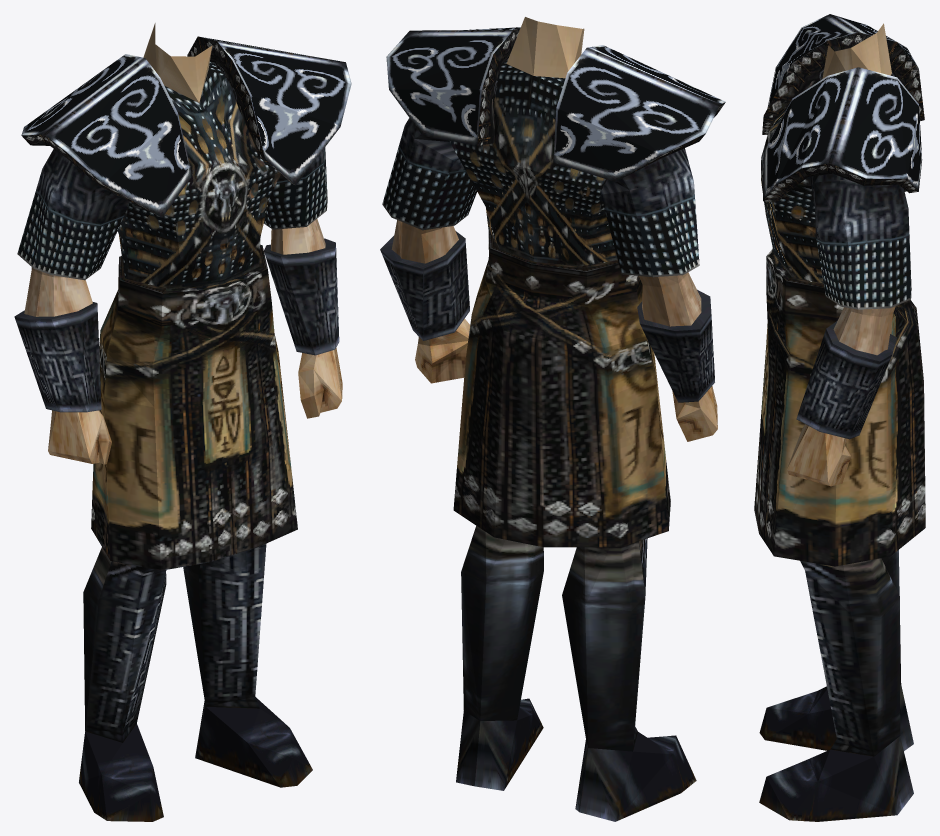
Rendered from Armor_CorAngar.glb.
3 views of the same model, side by side, from view 1: azimuth 30°, elevation 25°; view 2: azimuth 150°, elevation 25°; view 3: azimuth 270°, elevation 25° (orthographic). The views are drawn at different scales.
Visible parts, largest first — view 1: Armor_CorAngarzm_TPL_Ts; view 2: Armor_CorAngarzm_TPL_Ts; view 3: Armor_CorAngarzm_TPL_Ts.
Boxes of the visible parts, left/top/right/bottom form: Armor_CorAngarzm_TPL_Ts: left=14, top=23, right=351, bottom=821; Armor_CorAngarzm_TPL_Ts: left=380, top=17, right=725, bottom=821; Armor_CorAngarzm_TPL_Ts: left=754, top=14, right=925, bottom=821.
Bounding box in the file's own units: 0.7326 × 1.69 × 0.3477.
Materials: 2 (2 with a texture image).
